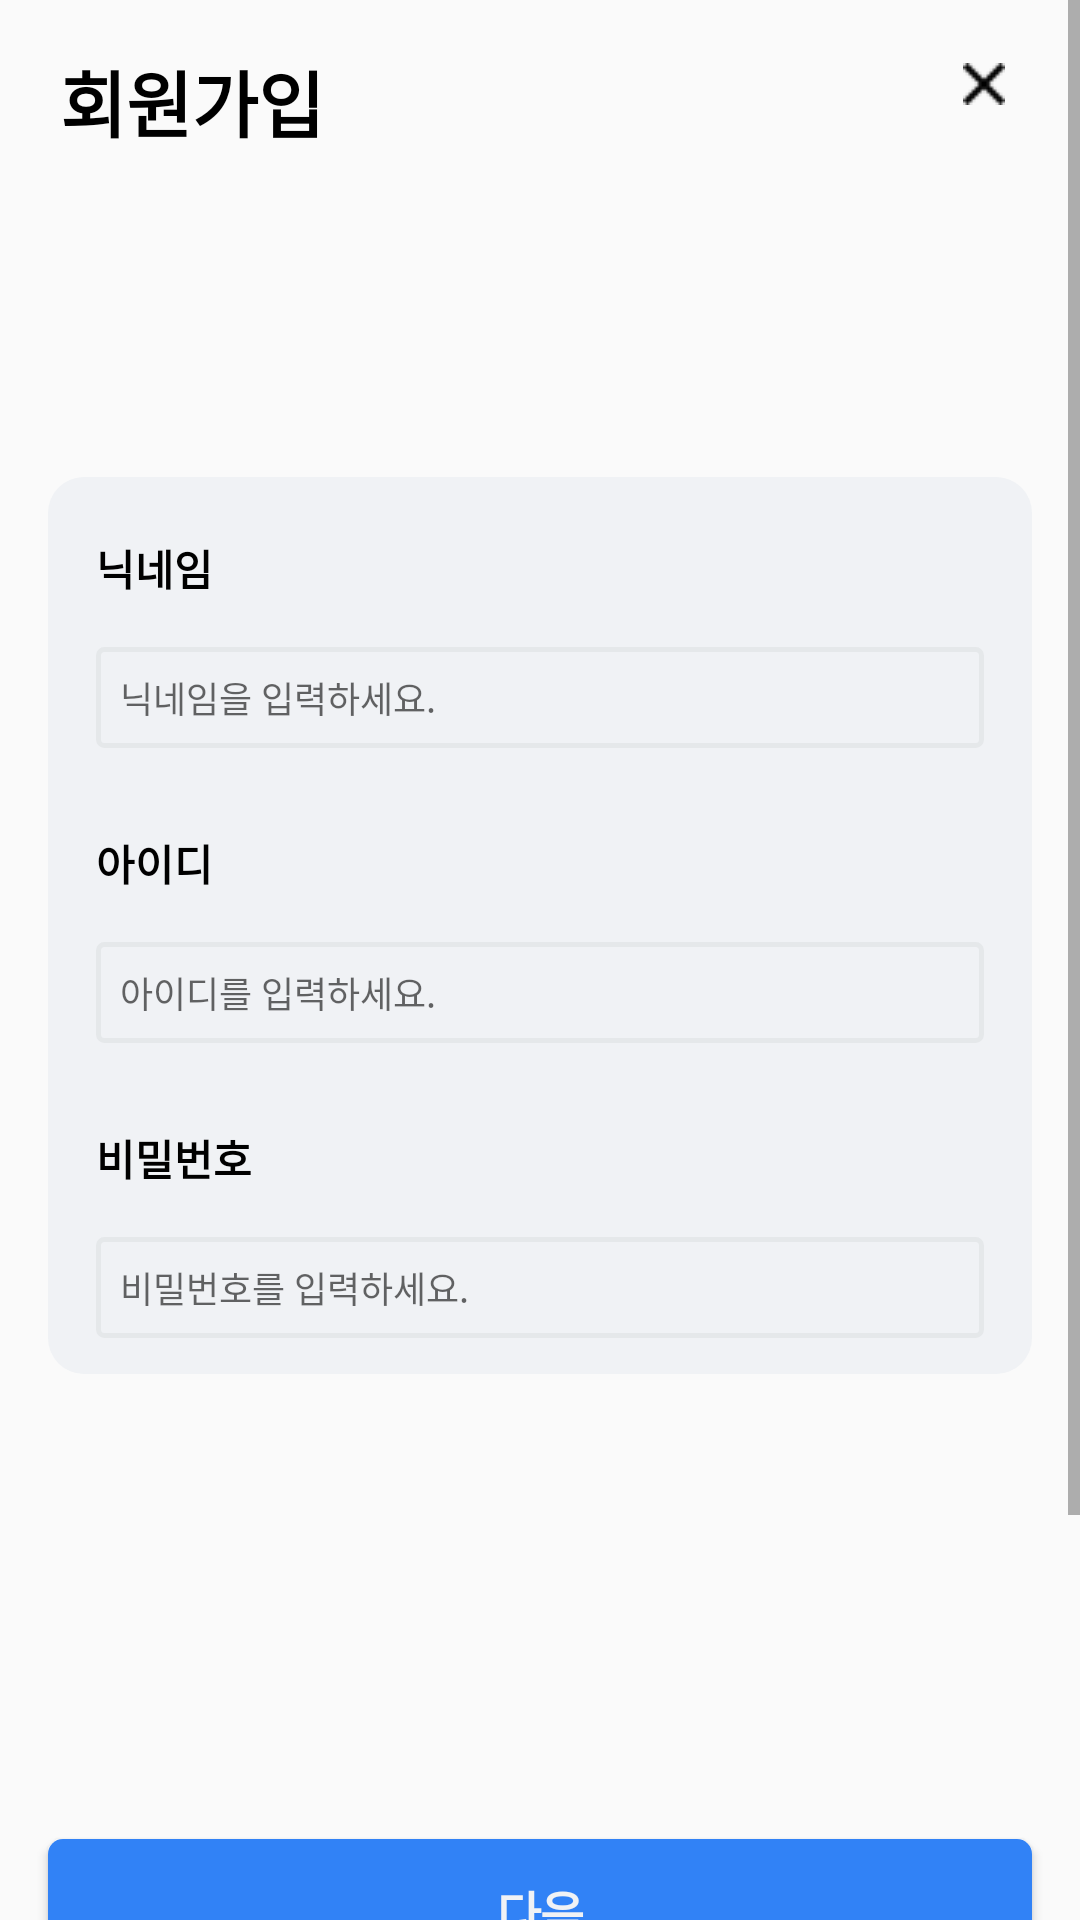

Screen size 1080px x 1920px. Icon name, then its center in pixels as point (x, y):
close: point (984, 84)
